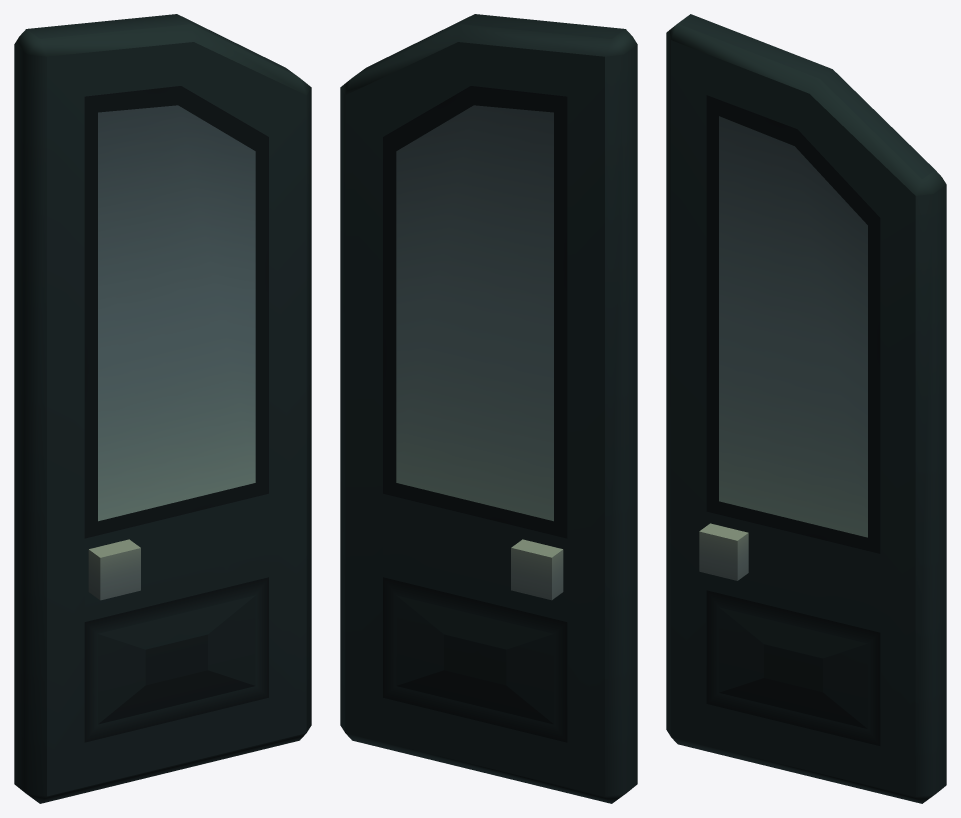
Rendered from door_black_arch_right_police_station.fbx.
3 views of the same model, side by side, from view 1: azimuth 30°, elevation 25°; view 2: azimuth 150°, elevation 25°; view 3: azimuth 330°, elevation 25° (orthographic). The views are drawn at different scales.
Visible parts, largest first — view 1: door_black_arch_right_police_station; view 2: door_black_arch_right_police_station; view 3: door_black_arch_right_police_station.
Boxes of the visible parts, x1=… form: door_black_arch_right_police_station: x1=14, y1=14, x2=311, y2=803; door_black_arch_right_police_station: x1=340, y1=14, x2=637, y2=803; door_black_arch_right_police_station: x1=666, y1=14, x2=946, y2=803.
Bounding box in the file's own units: 104 × 269 × 32.5.
